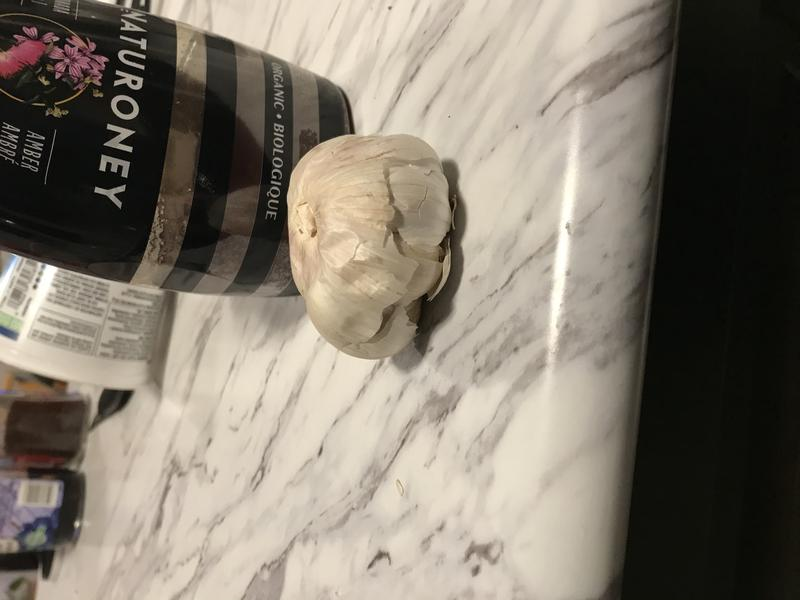garlic: (280, 122, 471, 374)
